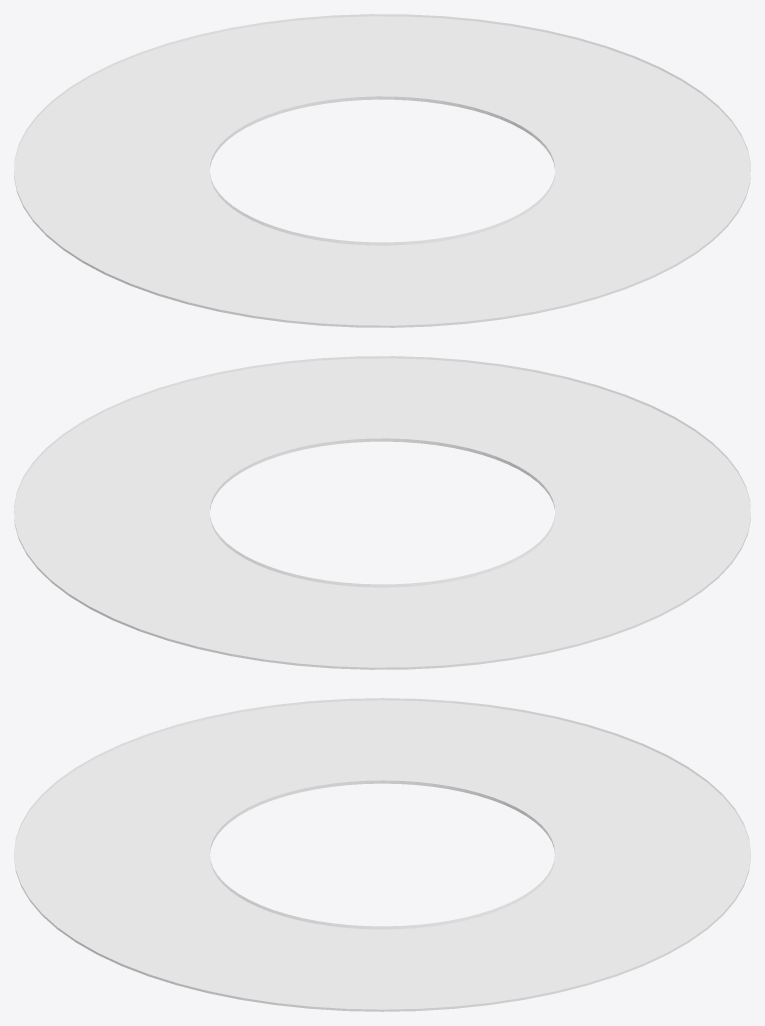
Rendered from saturnCircles.obj.
The picture shows the model from 3 angles, top to bottom: view 1: azimuth 30°, elevation 25°; view 2: azimuth 150°, elevation 25°; view 3: azimuth 270°, elevation 25°; orthographic projection.
Parts seen in each view (by area): view 1: Sphere.002; view 2: Sphere.002; view 3: Sphere.002.
Part boxes in pixels (x1,y1,x2,y2): Sphere.002: [14, 14, 750, 327]; Sphere.002: [14, 356, 750, 669]; Sphere.002: [14, 698, 750, 1011].
Size of the model in its own units: 42.95 by 0.2055 by 42.95.
Materials: 1 (1 with a texture image).
